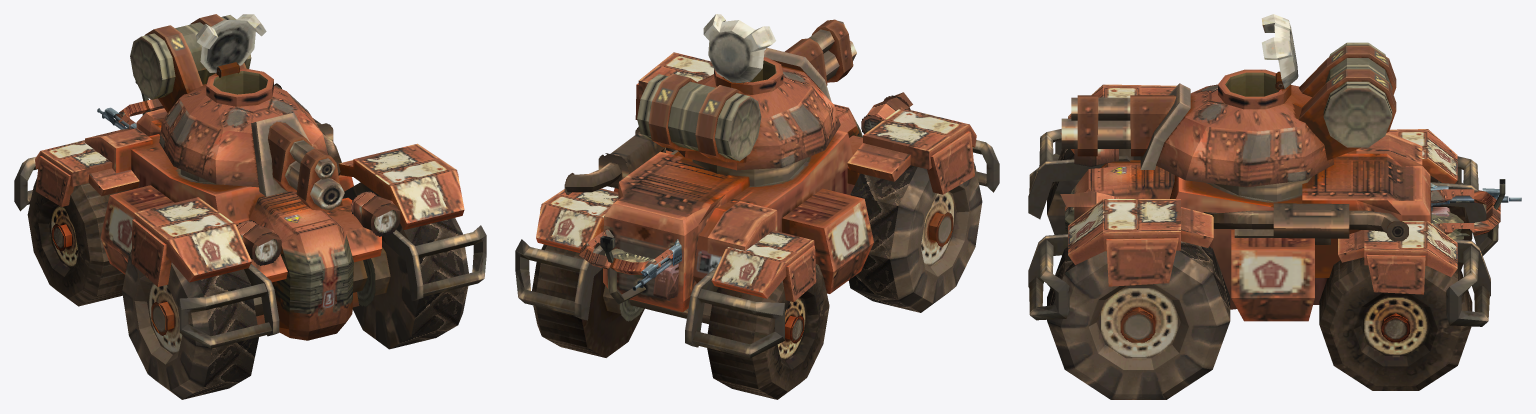
Rendered from VTLTNKH.obj.
3 renders of one model, left to right at view 1: azimuth 30°, elevation 25°; view 2: azimuth 150°, elevation 25°; view 3: azimuth 270°, elevation 25°, orthographic. The views are drawn at different scales.
Visible parts, largest first — view 1: Node 0, Node 2, Node 9, Node 8, Node 11, Node 3; view 2: Node 0, Node 2, Node 9, Node 11, Node 10, Node 3, Node 14; view 3: Node 0, Node 2, Node 8, Node 10, Node 3, Node 9, Node 14, Node 11.
Part boxes in pixels (bbox=[...]): Node 0: bbox=[14, 81, 486, 348]; Node 2: bbox=[130, 14, 327, 187]; Node 9: bbox=[122, 249, 258, 399]; Node 8: bbox=[342, 182, 468, 349]; Node 11: bbox=[27, 177, 132, 306]; Node 3: bbox=[251, 112, 344, 210]; Node 0: bbox=[515, 52, 999, 358]; Node 2: bbox=[637, 14, 840, 186]; Node 9: bbox=[848, 163, 982, 312]; Node 11: bbox=[707, 264, 829, 399]; Node 10: bbox=[532, 242, 644, 357]; Node 3: bbox=[764, 19, 856, 101]; Node 14: bbox=[632, 239, 681, 299]; Node 0: bbox=[1028, 84, 1505, 326]; Node 2: bbox=[1156, 14, 1396, 201]; Node 8: bbox=[1047, 241, 1230, 399]; Node 10: bbox=[1319, 257, 1472, 390]; Node 3: bbox=[1061, 83, 1190, 169]; Node 9: bbox=[1047, 149, 1140, 234]; Node 14: bbox=[1430, 183, 1521, 216]; Node 11: bbox=[1430, 174, 1472, 269].
Size of the model in its own units: 4.67 by 4.31 by 6.2.
Materials: 18 (18 with a texture image).
